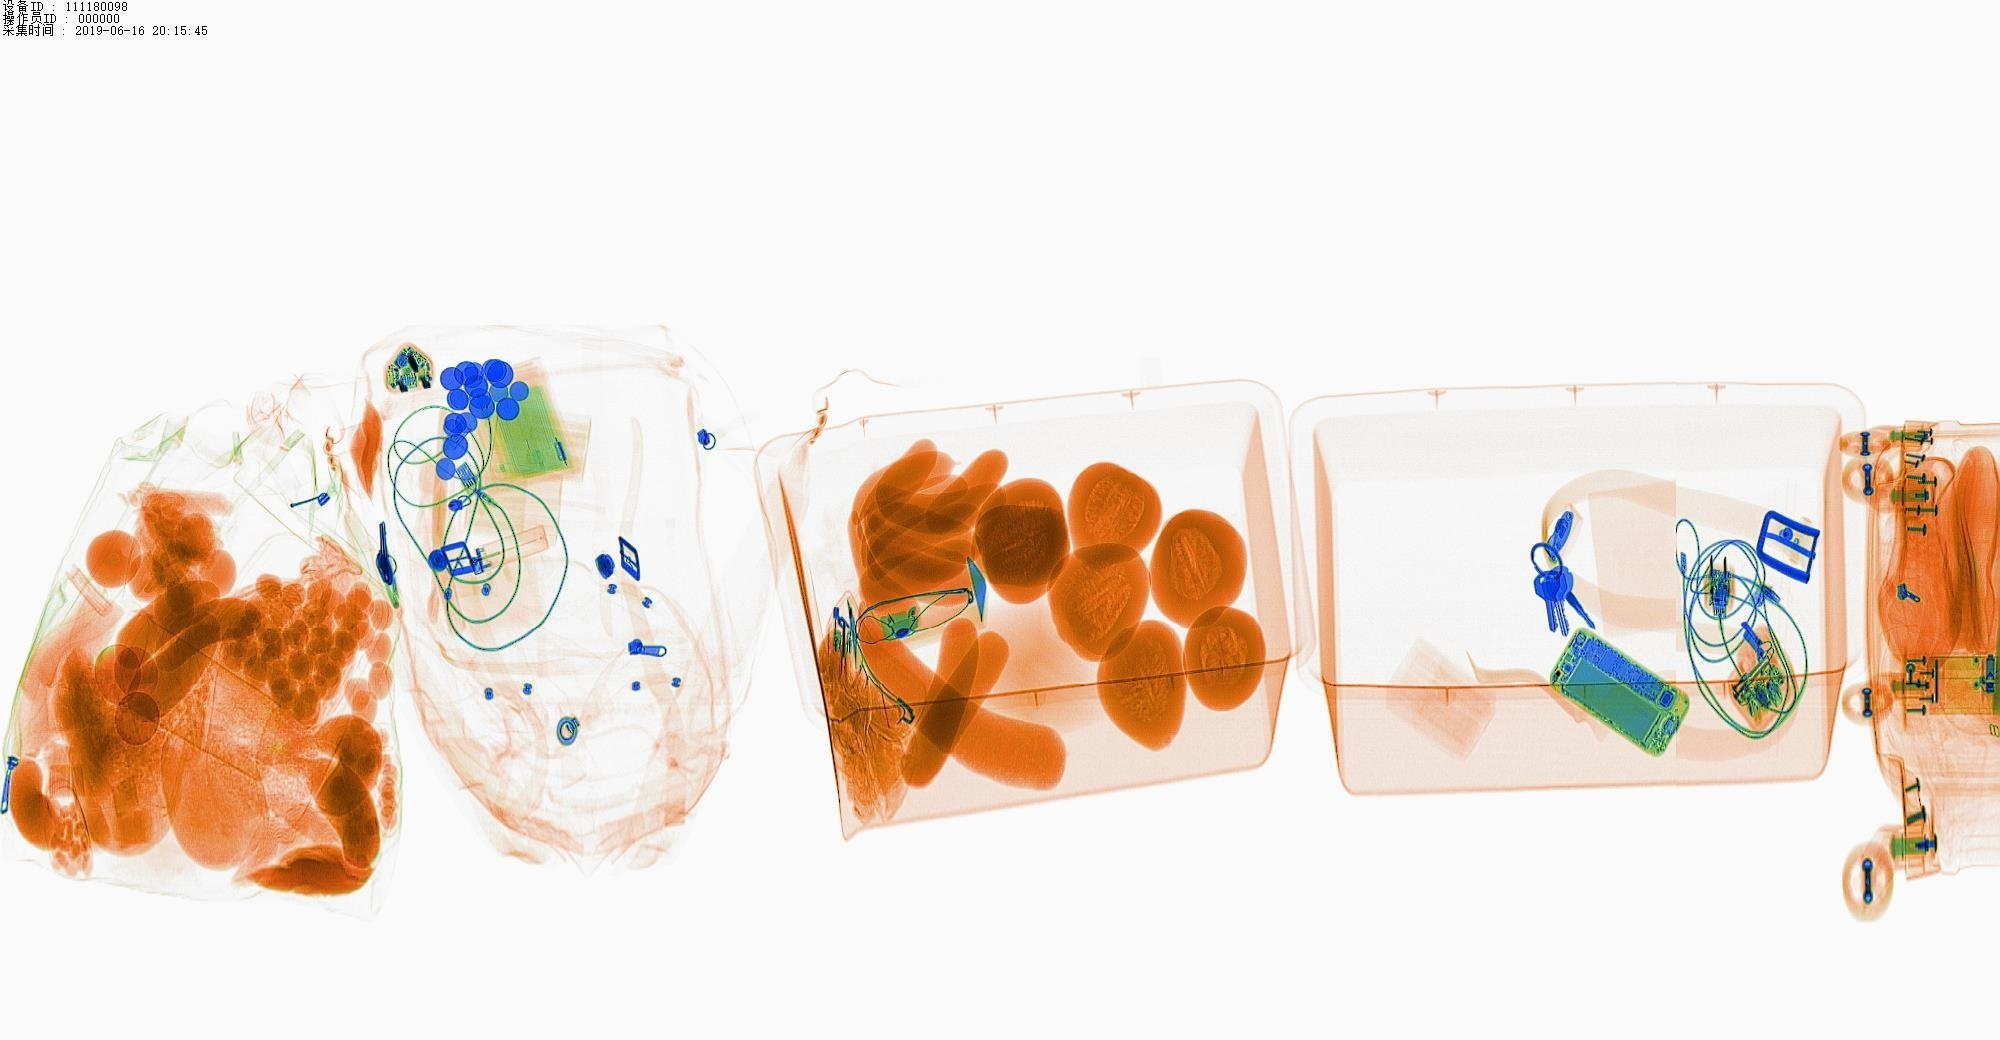NonmetallicFire: (462, 515, 569, 587)
